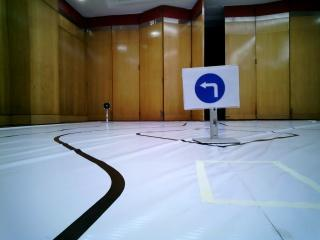left: (183, 69, 240, 108)
